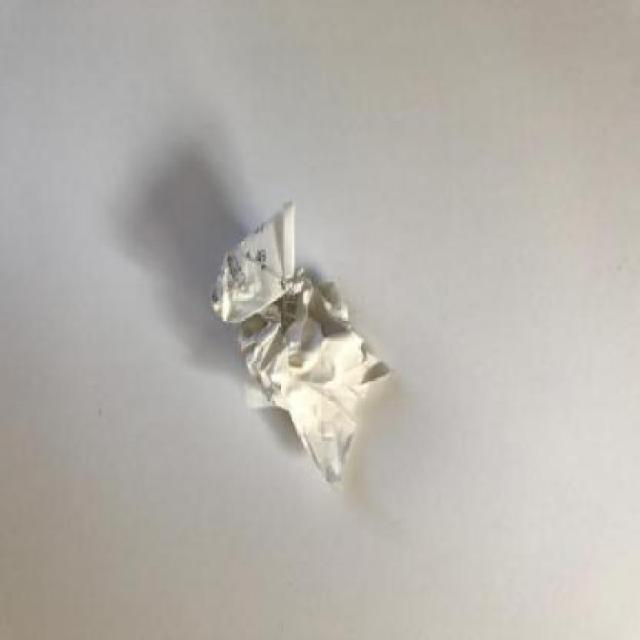paper: (211, 198, 395, 496)
